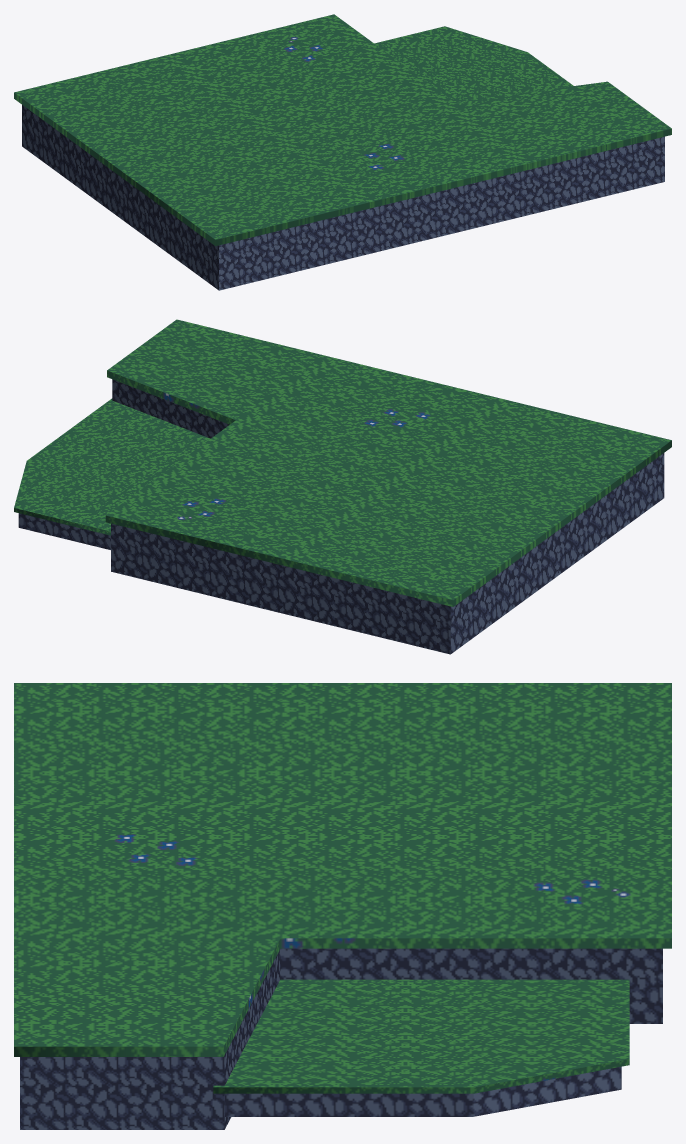
Rendered from ElevacaoJardim.fbx.
3 renders of one model, top to bottom at view 1: azimuth 30°, elevation 25°; view 2: azimuth 150°, elevation 25°; view 3: azimuth 270°, elevation 25°, orthographic. The views are drawn at different scales.
Visible parts, largest first — view 1: ElevacaoJardim; view 2: ElevacaoJardim; view 3: ElevacaoJardim.
Part boxes in pixels (bbox=[...]): ElevacaoJardim: bbox=[14, 14, 671, 290]; ElevacaoJardim: bbox=[14, 319, 671, 654]; ElevacaoJardim: bbox=[14, 683, 671, 1129].
Size of the model in its own units: 6090 by 4657 by 680.
